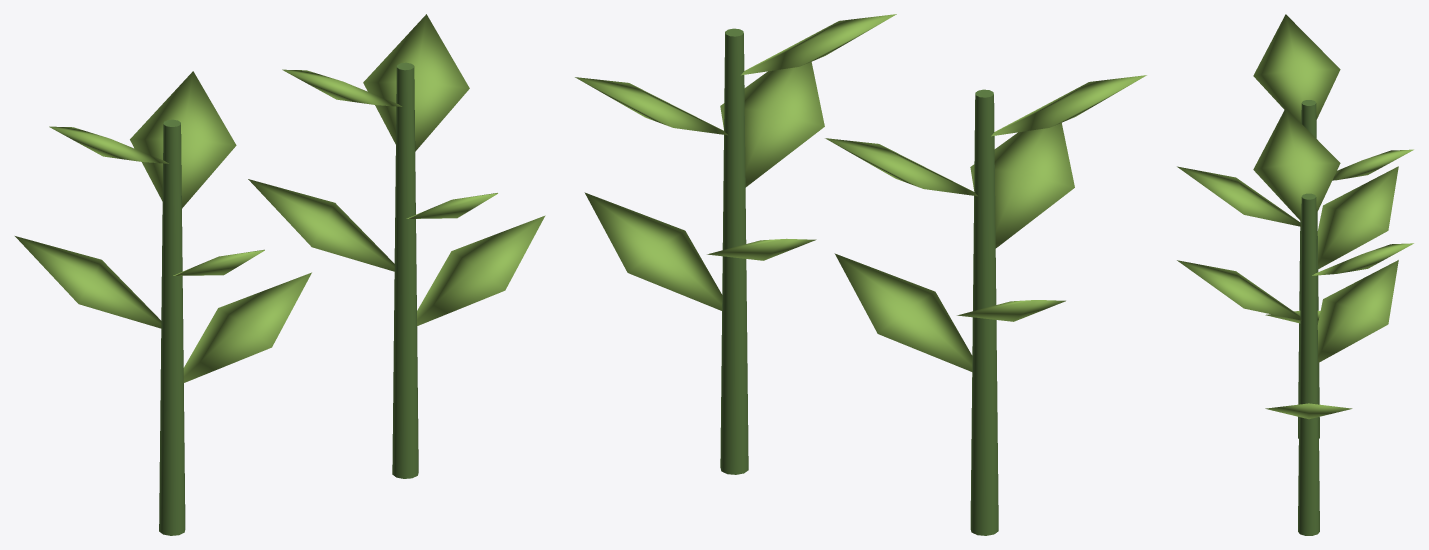
Rendered from crop_3_stage_2.fbx.
The picture shows the model from 3 angles, left to right: view 1: azimuth 30°, elevation 25°; view 2: azimuth 150°, elevation 25°; view 3: azimuth 270°, elevation 25°; orthographic projection. The views are drawn at different scales.
Parts seen in each view (by area): view 1: crop_3_stage_2; view 2: crop_3_stage_2; view 3: crop_3_stage_2.
Part boxes in pixels (x1,y1,x2,y2): crop_3_stage_2: (15,14,545,535); crop_3_stage_2: (575,14,1146,535); crop_3_stage_2: (1177,14,1413,535).
Bounding box in the file's own units: 0.3884 × 0.325 × 0.1904.
1 material, 1 textured.
